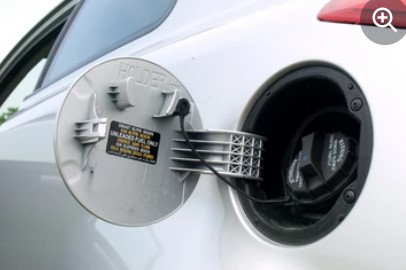open: (220, 56, 378, 250)
